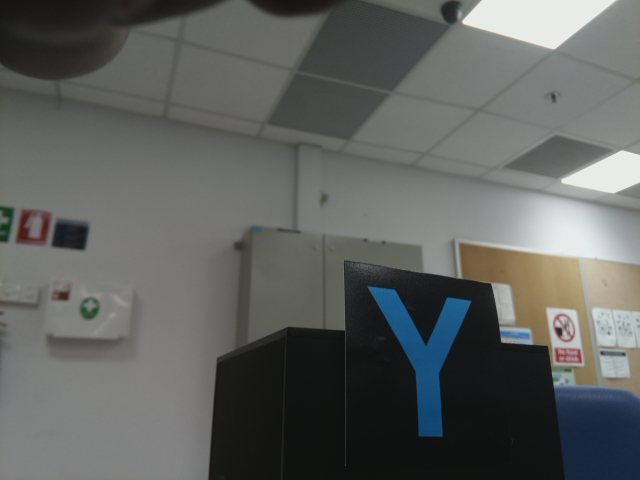y: (364, 277, 486, 455)
